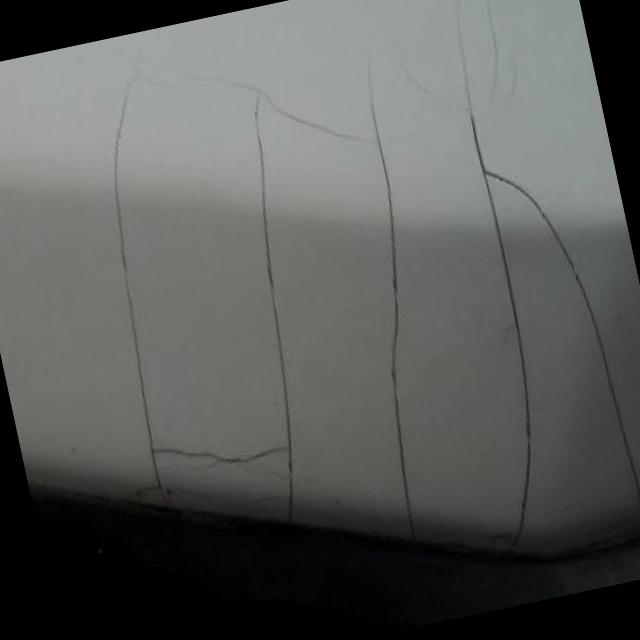crack: (467, 100, 640, 551), (110, 63, 289, 497), (250, 84, 373, 526), (363, 56, 419, 545)
